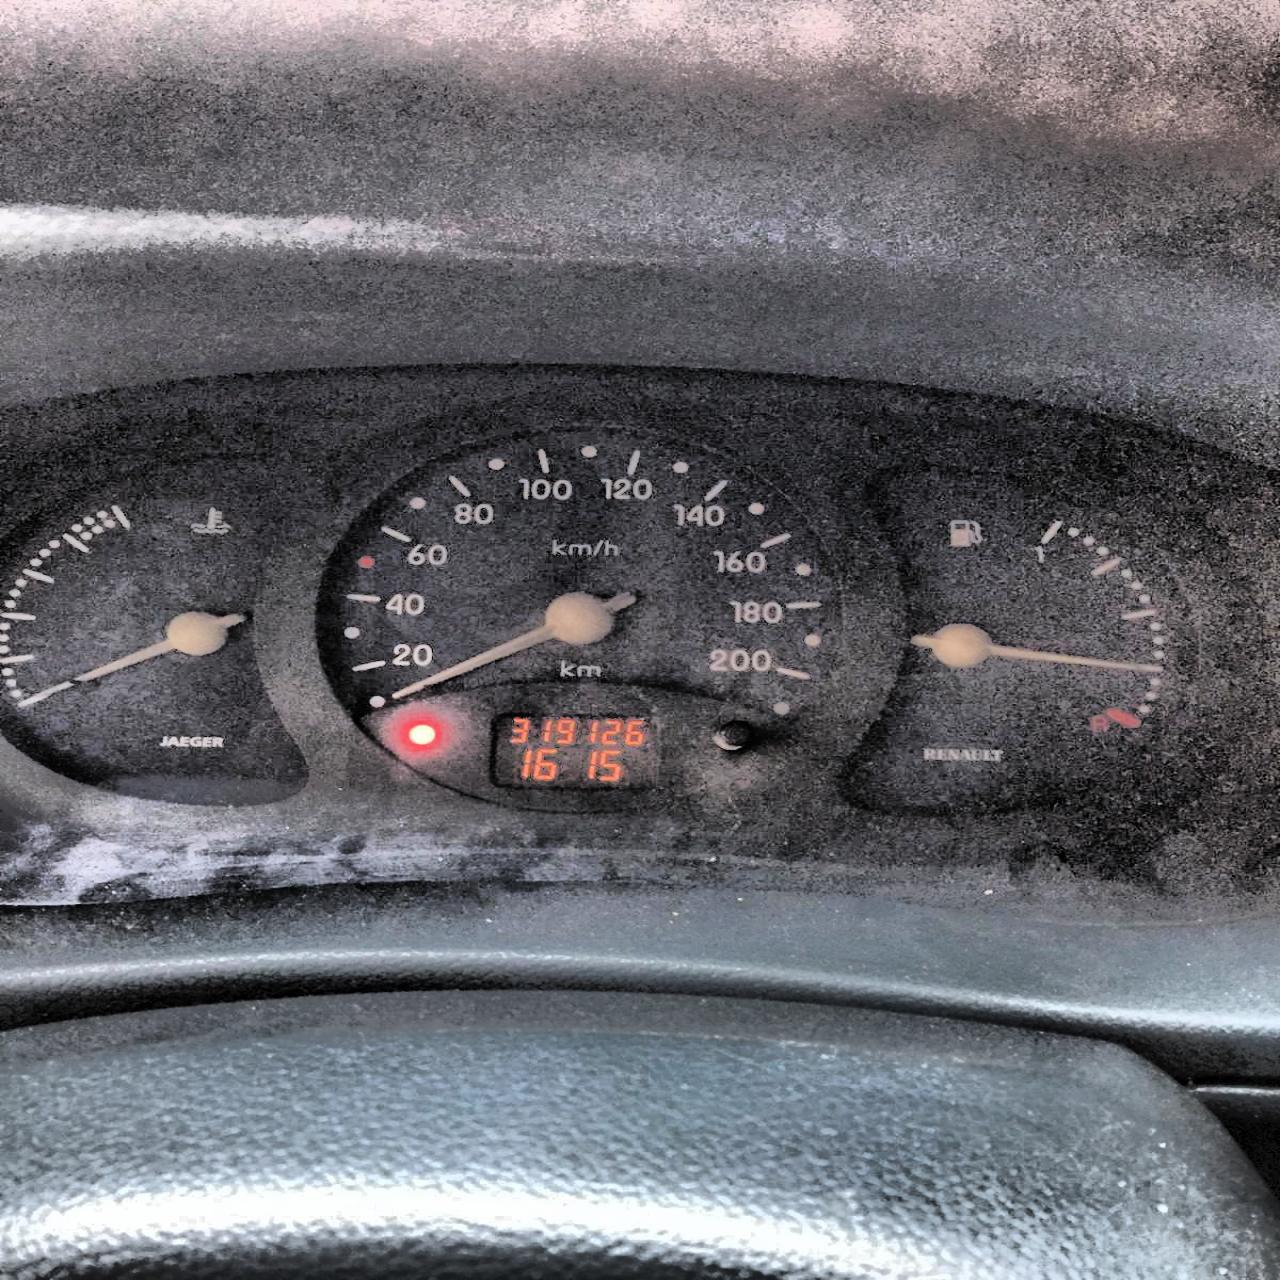1: (520, 749, 531, 777), (587, 750, 597, 778), (587, 720, 598, 742), (542, 720, 551, 742)
2: (599, 720, 620, 744)
3: (509, 717, 527, 742)
5: (598, 750, 620, 781)
6: (532, 748, 557, 778), (624, 720, 644, 745)
9: (554, 719, 574, 743)
odometer: (485, 712, 661, 791)
